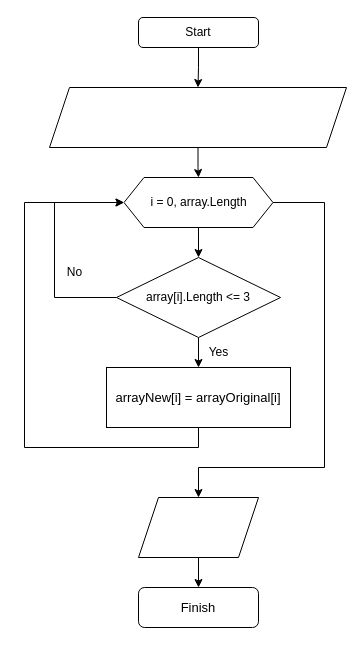
This 364x645 diagram has some shape labels left out. Each missing label, with the centre of its shape:
arrayOriginal = ["hello", "2", "world", ":-)"] arrayNew = [array.Length]: (x=197, y=117)
print arrayNew: (x=198, y=527)
